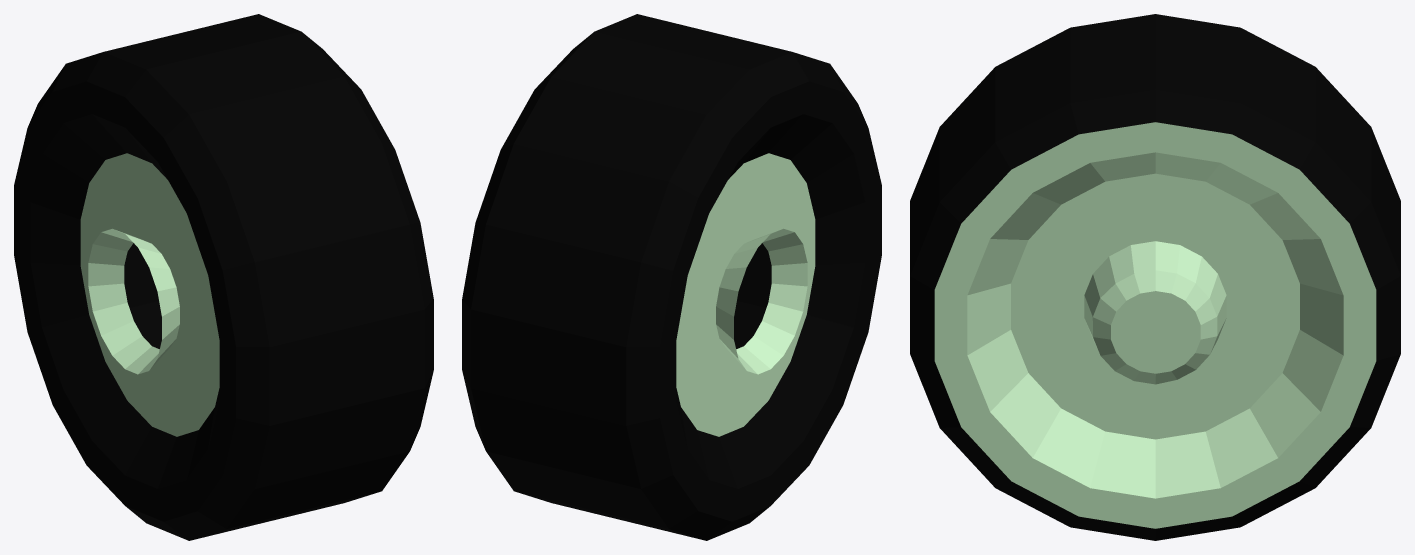
File: SM_Car_02_FrontWheel.fbx
3 views of the same model, side by side, from view 1: azimuth 30°, elevation 25°; view 2: azimuth 150°, elevation 25°; view 3: azimuth 270°, elevation 25° (orthographic).
Parts seen in each view (by area): view 1: SM_Car_02_FrontWheel; view 2: SM_Car_02_FrontWheel; view 3: SM_Car_02_FrontWheel.
Part boxes in pixels (x1,y1,x2,y2): SM_Car_02_FrontWheel: (14,14,433,540); SM_Car_02_FrontWheel: (462,14,881,540); SM_Car_02_FrontWheel: (910,14,1400,540).
Bounding box in the file's own units: 13.59 × 27.75 × 27.33.
